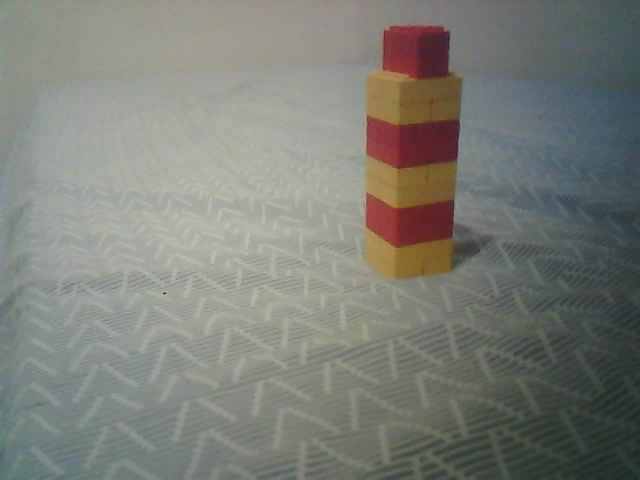lego: (362, 24, 463, 282)
